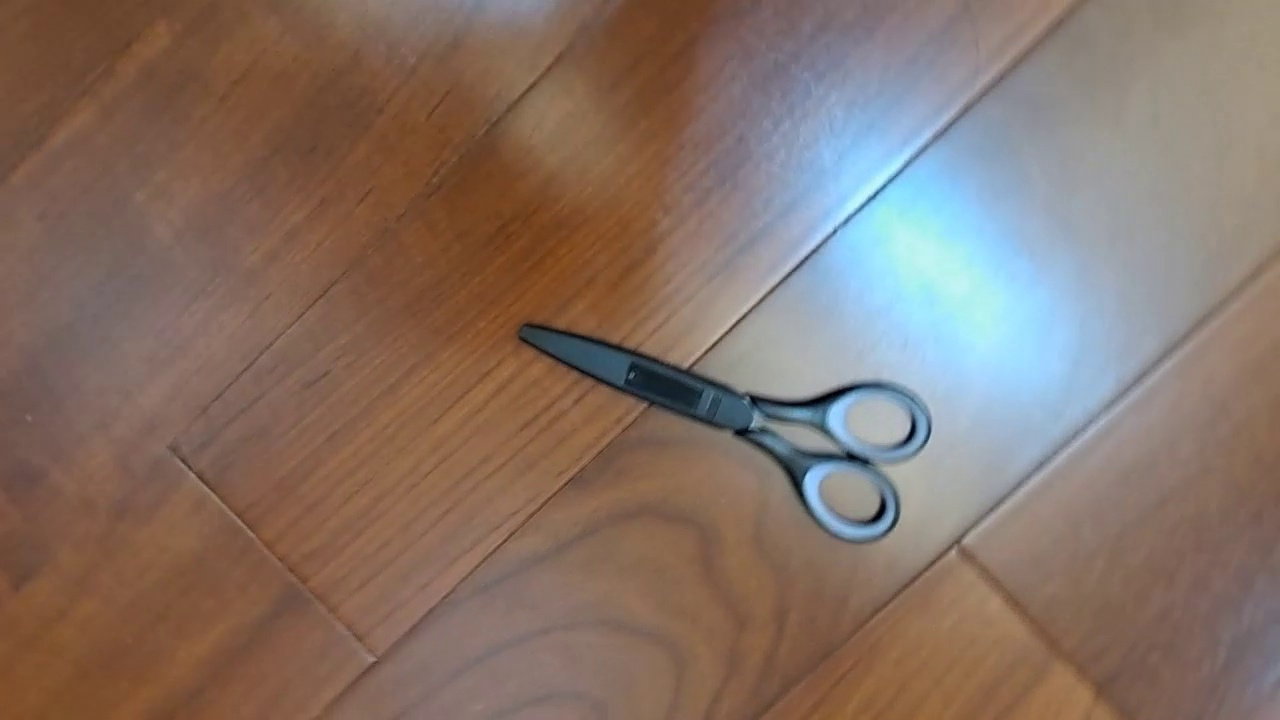scissors: (516, 321, 932, 544)
